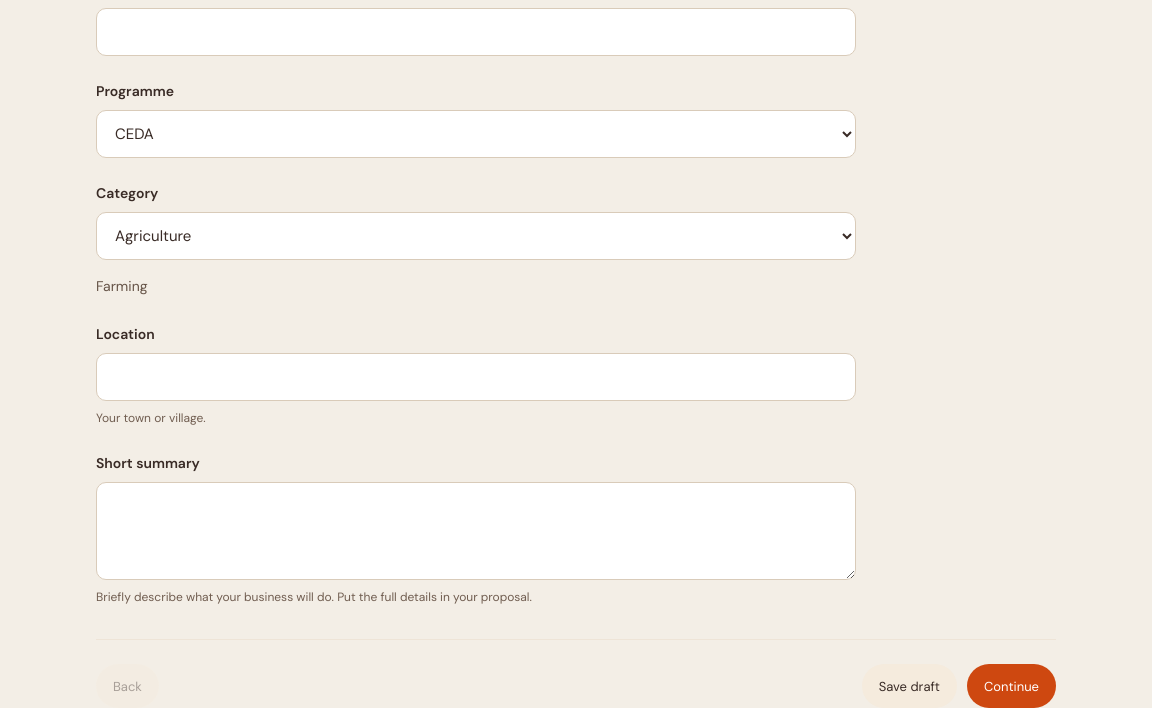
Test: has three steps and permits incomplete draft saves
The image size is (1152, 708).
Later steps or results of the test are not shown.
(page scrolled)
What coordinates should you click on to do the following:
click the button "Continue"
I would click on:
 (1012, 686)
Its box is [967,664,1056,707].
(page scrolled)
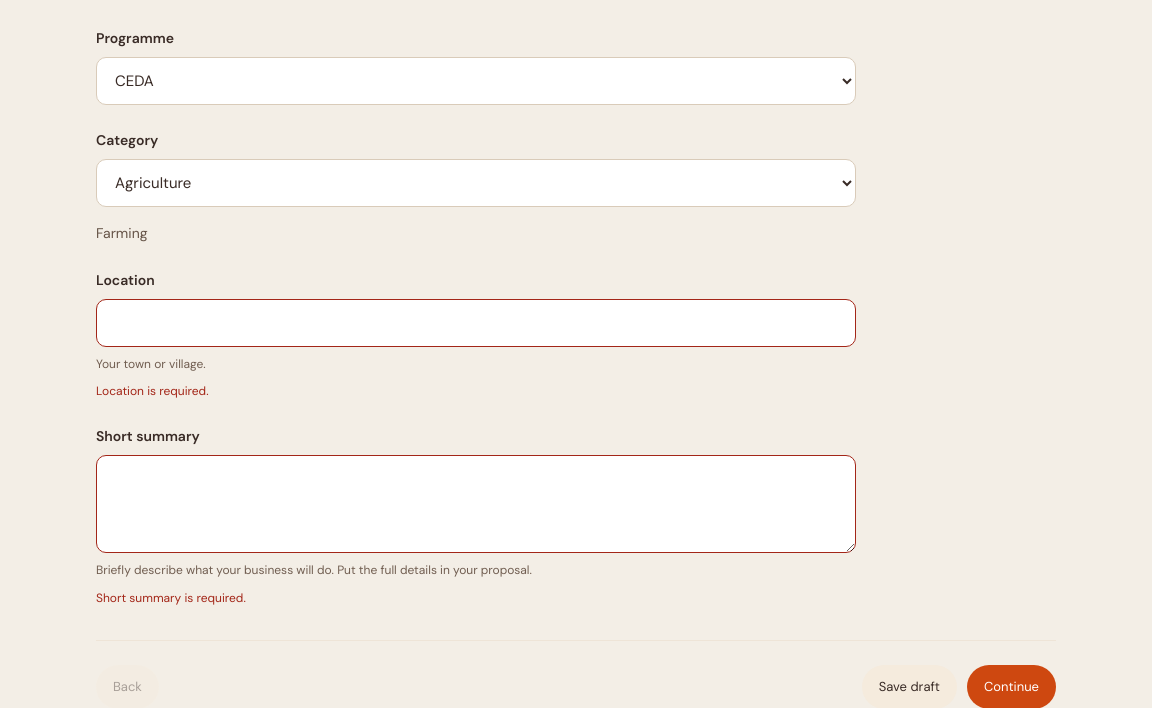
Check: the text "Location is required." is shown, box [96,383,208,399]
